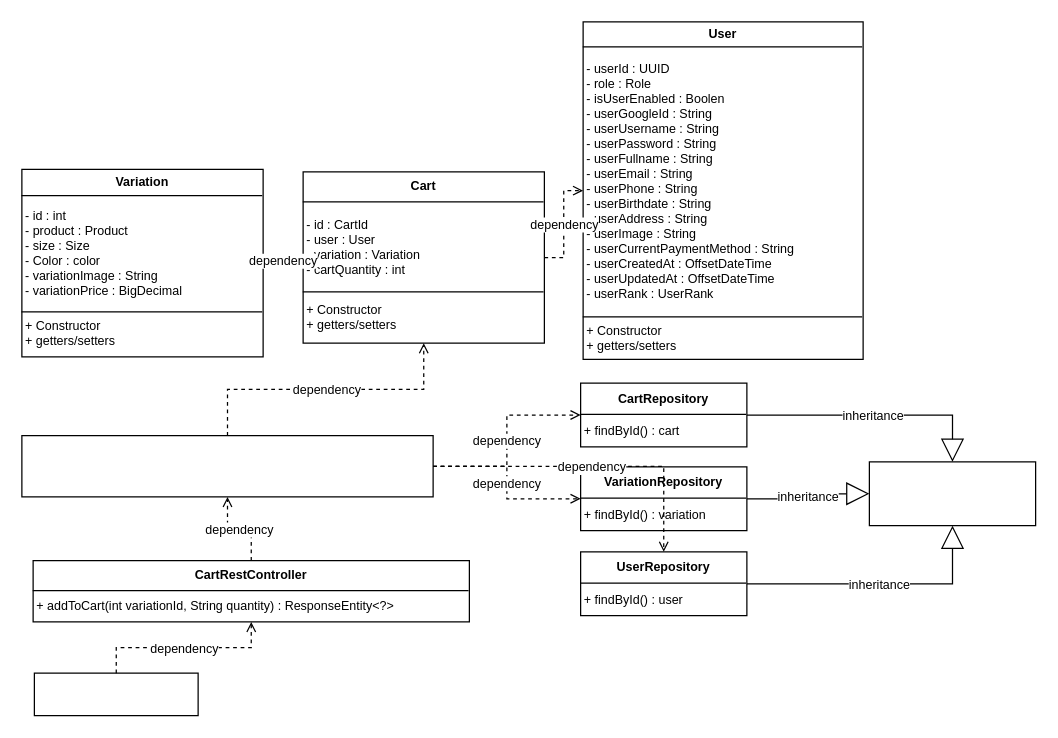
The diagram is 1058 pixels wide and 738 high, and some of its shapes have lost their labels. Here are the shapes that lost their labels. From the top down, the centre of each, then its label:
[227,465]: CartService + addToCart(String userId, int variationId, int quantity) : void
[952,493]: JpaRepository
[115,694]: Shop View
